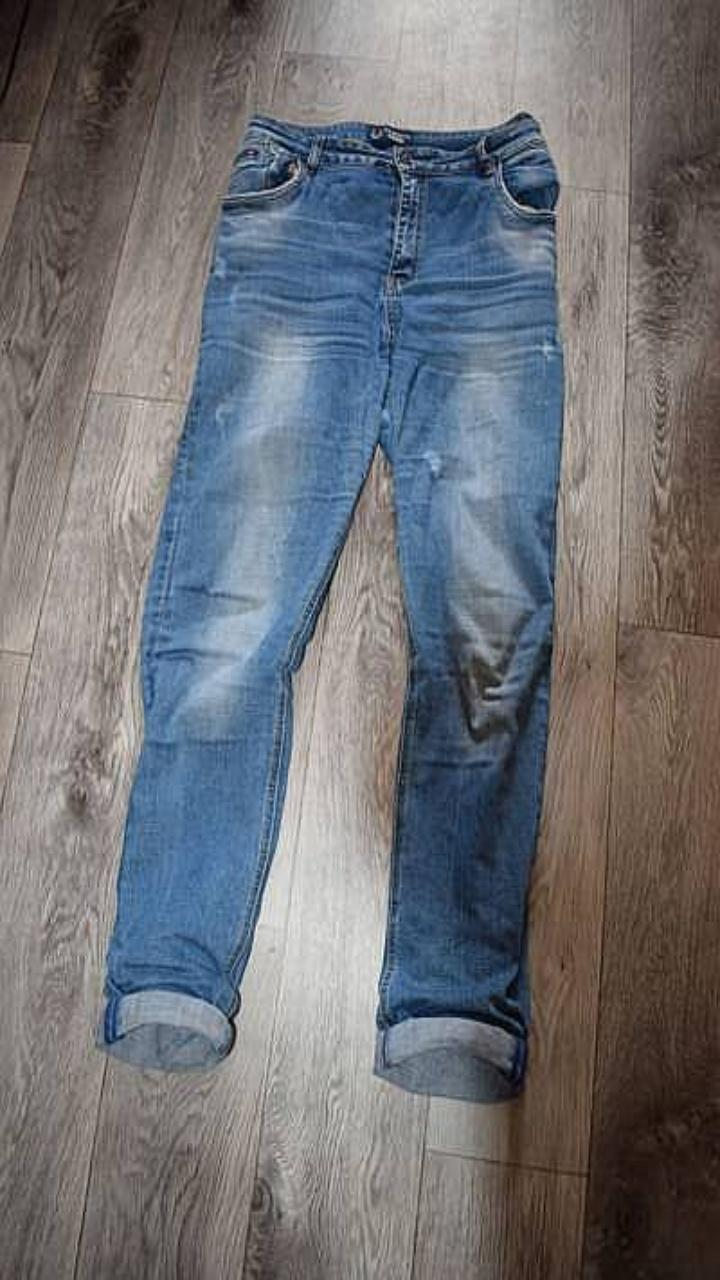Jeans: (95, 111, 562, 1101)
